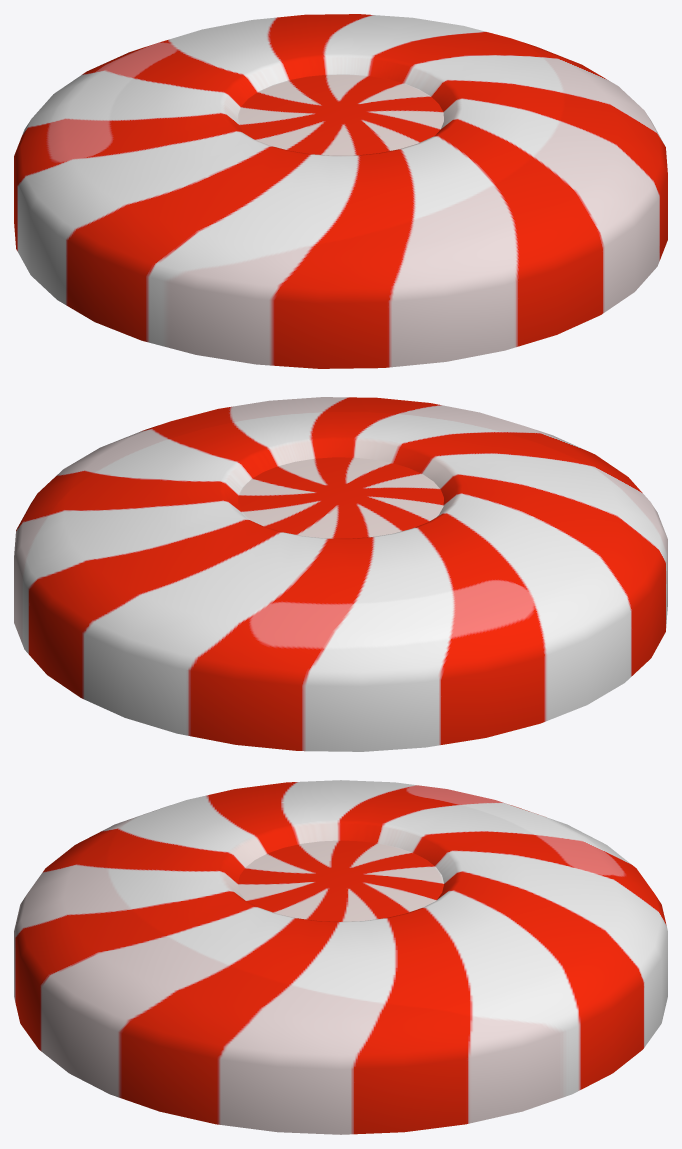
File: Candy_Twist_Red_01.fbx
3 views of the same model, one above another, from view 1: azimuth 30°, elevation 25°; view 2: azimuth 150°, elevation 25°; view 3: azimuth 270°, elevation 25° (orthographic).
Visible parts, largest first — view 1: Candy_Twist_Red_01; view 2: Candy_Twist_Red_01; view 3: Candy_Twist_Red_01.
Part boxes in pixels (x1,y1,x2,y2): Candy_Twist_Red_01: (14, 14, 667, 368); Candy_Twist_Red_01: (14, 397, 667, 751); Candy_Twist_Red_01: (14, 780, 667, 1134).
Bounding box in the file's own units: 64.69 × 13.68 × 64.69.
